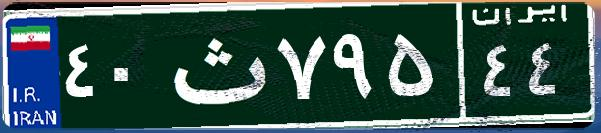0: (110, 28, 158, 105)
4: (57, 26, 110, 107), (475, 38, 525, 113), (525, 38, 570, 115)
5: (385, 28, 445, 110)
7: (273, 28, 330, 110)
9: (330, 28, 385, 110)
ث: (158, 15, 273, 115)
